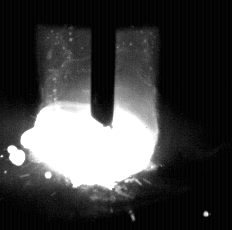arame: (92, 0, 116, 127)
poca: (30, 0, 158, 230)
